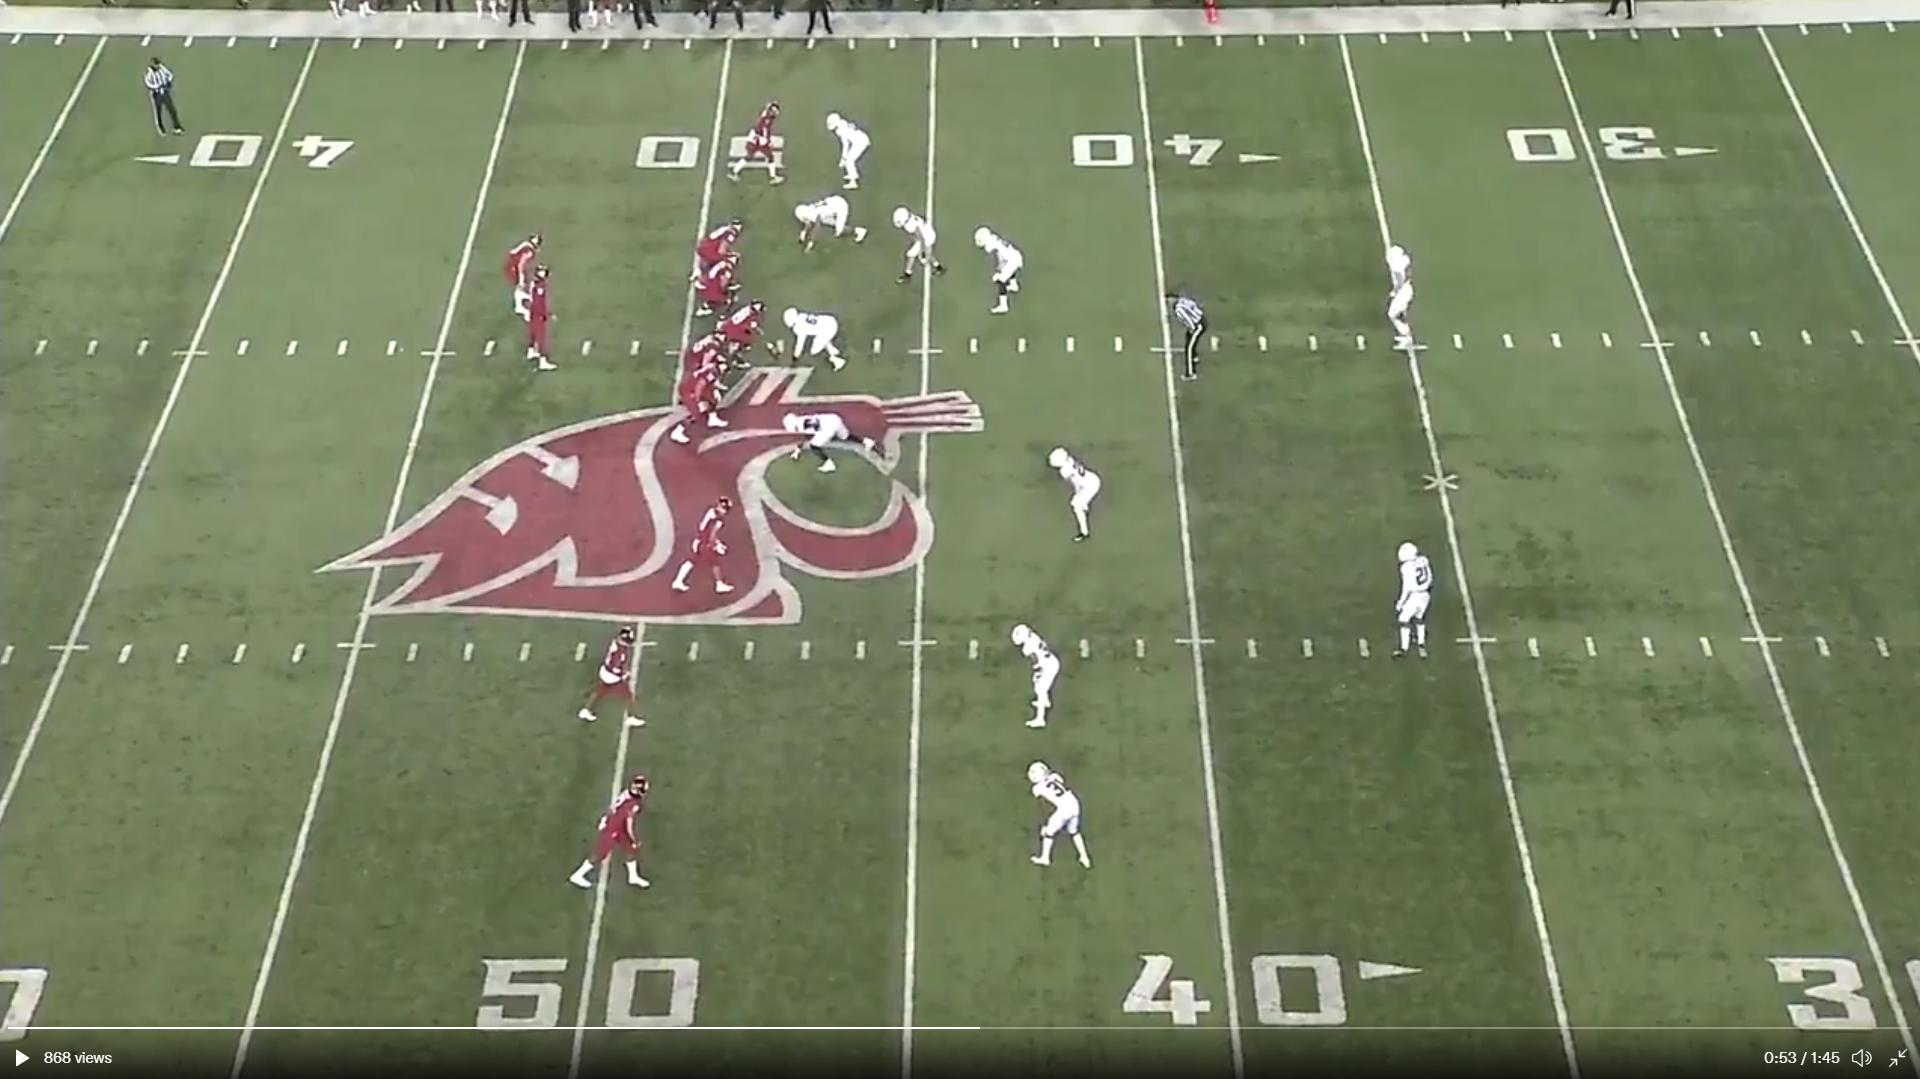player: (571, 771, 664, 898), (577, 621, 654, 734), (1025, 761, 1096, 880), (784, 410, 891, 478), (668, 496, 736, 601), (668, 350, 732, 447), (1047, 444, 1106, 547), (1014, 621, 1067, 734), (1387, 542, 1434, 660), (728, 101, 789, 191), (971, 224, 1029, 318), (783, 308, 855, 379), (1380, 239, 1423, 352), (794, 196, 876, 255), (519, 263, 561, 375), (825, 107, 876, 194), (502, 230, 550, 320), (895, 202, 947, 282), (695, 257, 750, 331), (712, 302, 767, 368), (694, 219, 750, 282), (685, 328, 742, 375)
ref: (1166, 286, 1210, 388), (145, 51, 189, 140), (801, 0, 844, 43), (1597, 0, 1646, 25)
